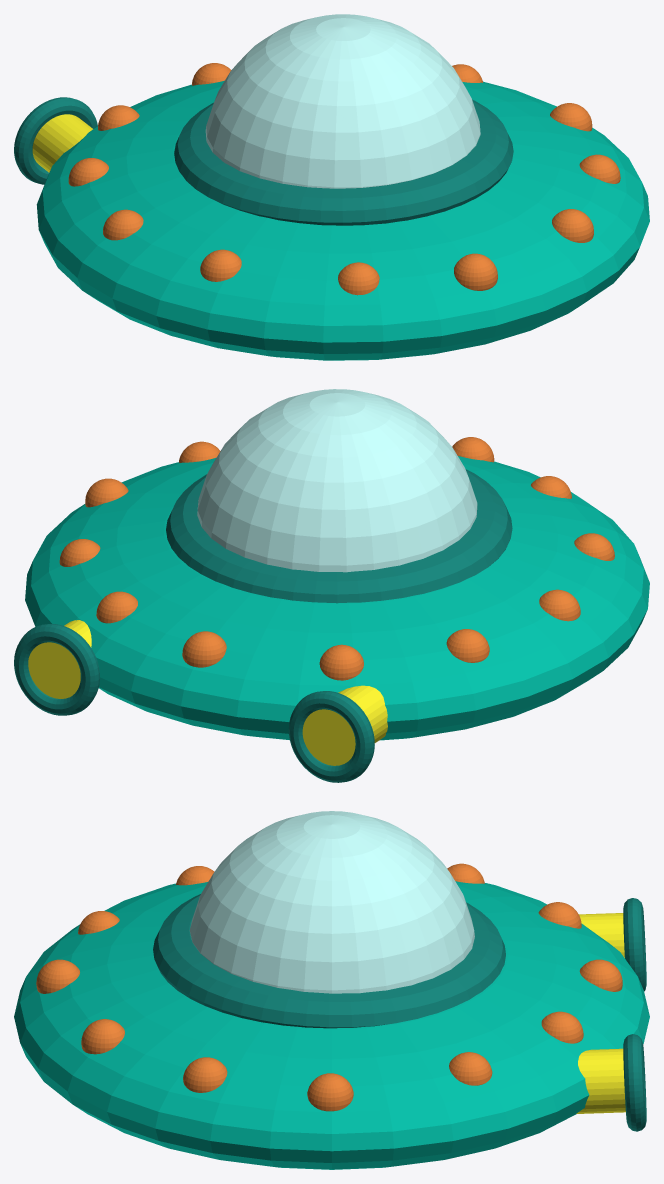
File: UFO_textured.fbx
3 views of the same model, one above another, from view 1: azimuth 30°, elevation 25°; view 2: azimuth 150°, elevation 25°; view 3: azimuth 270°, elevation 25° (orthographic). The views are drawn at different scales.
Visible parts, largest first — view 1: Sphere, Sphere.001, Torus.002, Torus, Cylinder, Sphere.002, Sphere.006, Sphere.012, Sphere.011, Sphere.005, Sphere.007, Sphere.013 (+3 smaller); view 2: Sphere, Sphere.001, Torus.002, Torus.001, Torus, Cylinder, Cylinder.001, Sphere.003, Sphere.010, Sphere.013, Sphere.009, Sphere.005 (+6 smaller); view 3: Sphere, Sphere.001, Torus.002, Cylinder.001, Torus.001, Torus, Sphere.004, Sphere.007, Sphere.006, Sphere.008, Cylinder, Sphere.002 (+6 smaller).
Part boxes in pixels (x1,y1,x2,y2): Sphere: (36, 80, 649, 360); Sphere.001: (205, 14, 480, 188); Torus.002: (174, 99, 513, 225); Torus: (14, 97, 97, 184); Cylinder: (32, 114, 92, 172); Sphere.002: (454, 253, 497, 290); Sphere.006: (552, 209, 593, 242); Sphere.012: (338, 262, 379, 295); Sphere.011: (200, 249, 241, 281); Sphere.005: (103, 209, 143, 240); Sphere.007: (579, 154, 620, 183); Sphere.013: (68, 158, 108, 186); Sphere: (25, 456, 649, 740); Sphere.001: (197, 389, 477, 572); Torus.002: (166, 469, 512, 603); Torus.001: (14, 624, 99, 715); Torus: (288, 691, 374, 782); Cylinder: (302, 685, 387, 765); Cylinder.001: (28, 620, 91, 698); Sphere.003: (182, 631, 226, 667); Sphere.010: (319, 644, 363, 680); Sphere.013: (446, 629, 489, 662); Sphere.009: (96, 591, 137, 623); Sphere.005: (539, 589, 580, 621); Sphere: (14, 881, 649, 1169); Sphere.001: (189, 811, 474, 993); Torus.002: (153, 894, 505, 1028); Cylinder.001: (576, 1048, 625, 1113); Torus.001: (623, 1034, 646, 1131); Torus: (623, 898, 646, 991); Sphere.004: (307, 1073, 353, 1111); Sphere.007: (183, 1057, 227, 1092); Sphere.006: (81, 1019, 124, 1054); Sphere.008: (449, 1052, 492, 1085); Cylinder: (579, 913, 624, 957); Sphere.002: (36, 959, 79, 993).
Size of the model in its own units: 774 by 358 by 774.
